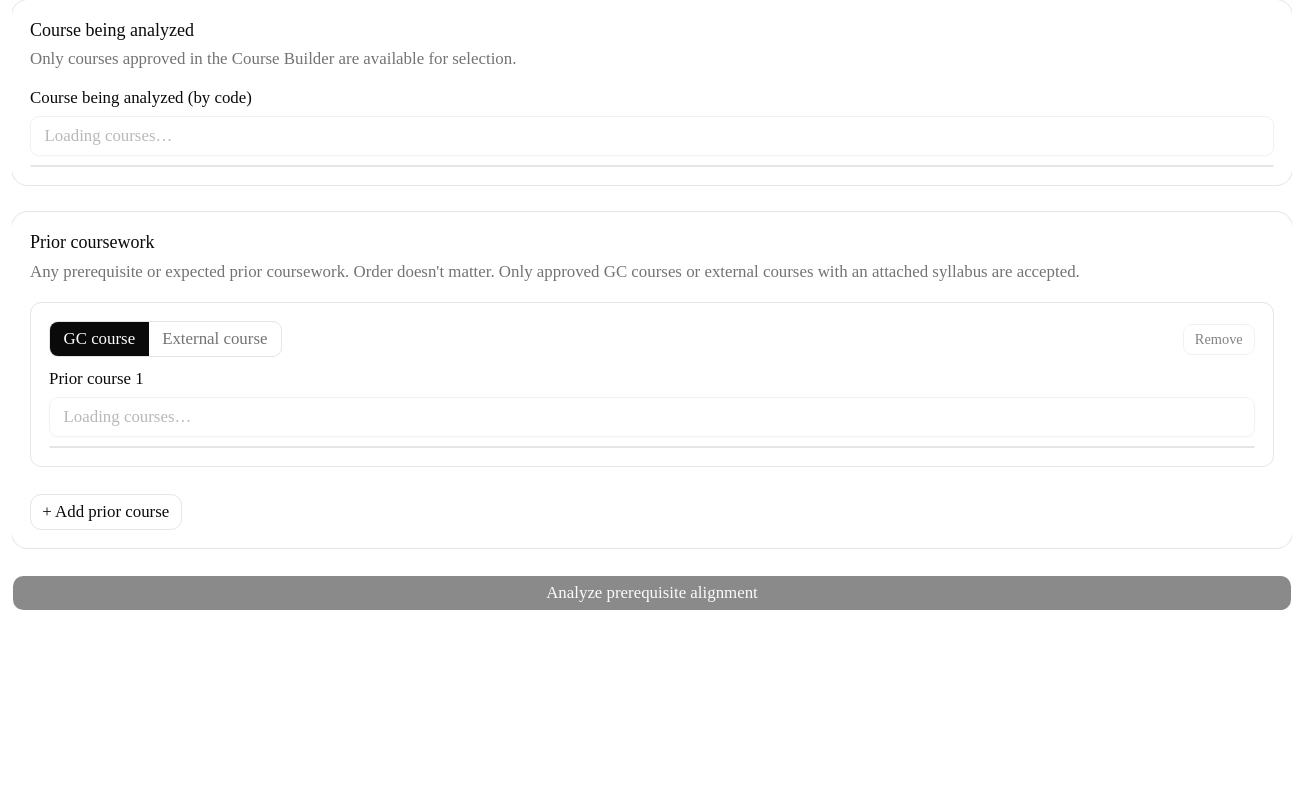
PrototypeForm › Add prior course button adds a second prior course row
expect the field labelled "prior course 2" is not shown: met
Click the button "+ Add prior course" at (106, 512), box [30,494,182,530]
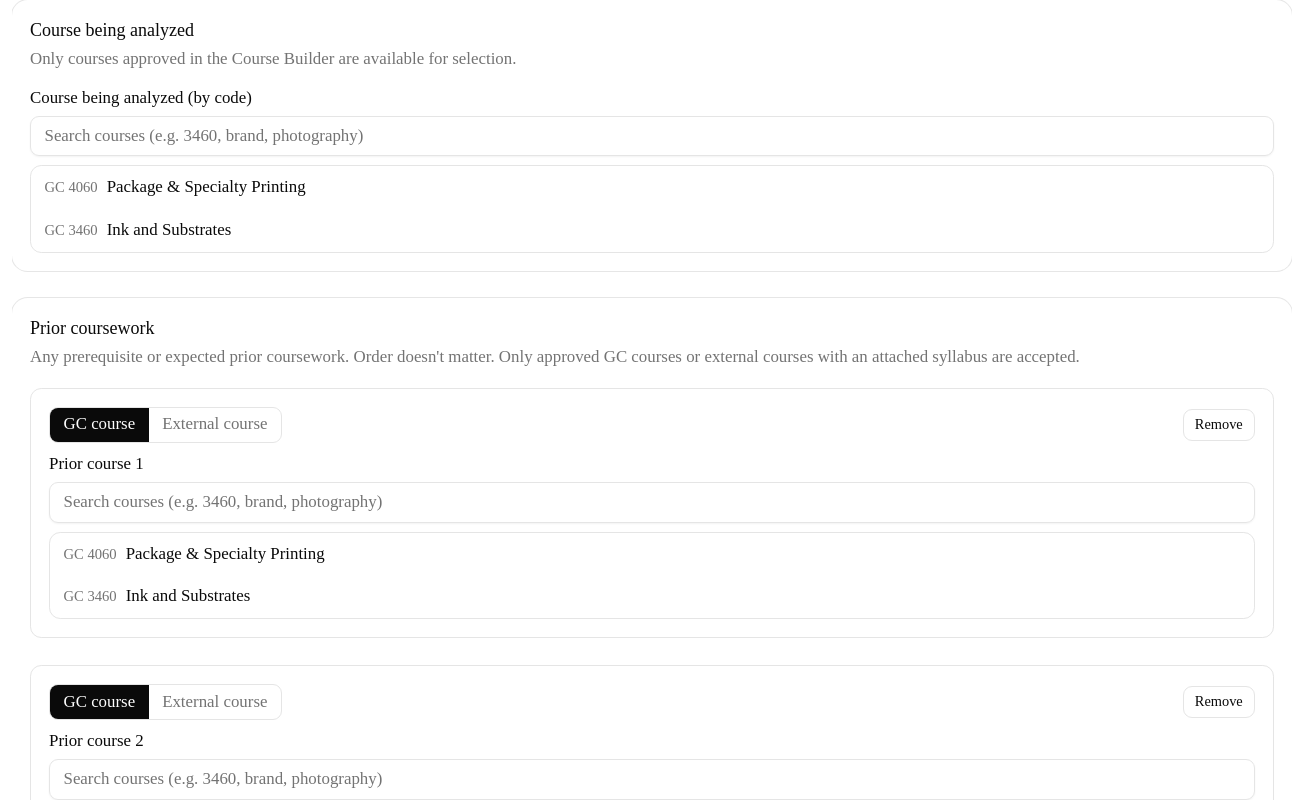
expect the field labelled "Prior course 2" is shown: met, box [49,759,1255,799]
